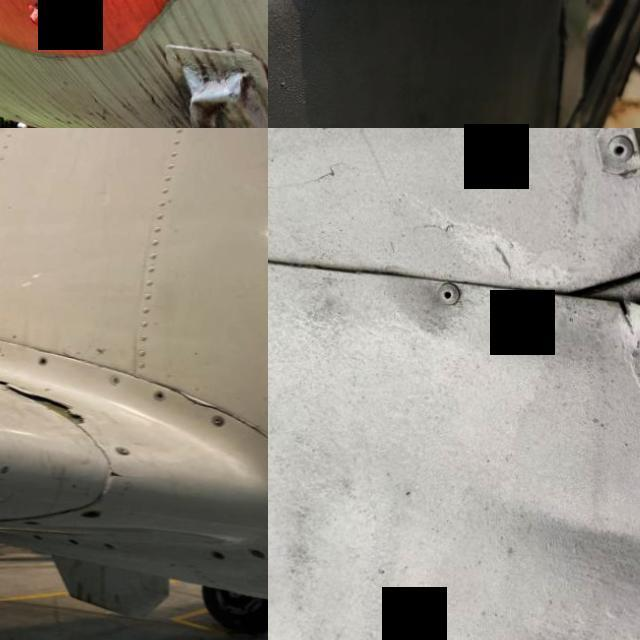Crack: (0, 378, 96, 429), (601, 280, 640, 336), (222, 411, 268, 450), (176, 391, 222, 412), (99, 468, 142, 482)
Dent: (171, 62, 268, 128)
Missing_Fastener: (86, 510, 108, 518), (156, 390, 169, 400), (218, 550, 231, 560), (38, 356, 54, 364), (0, 345, 5, 354)
